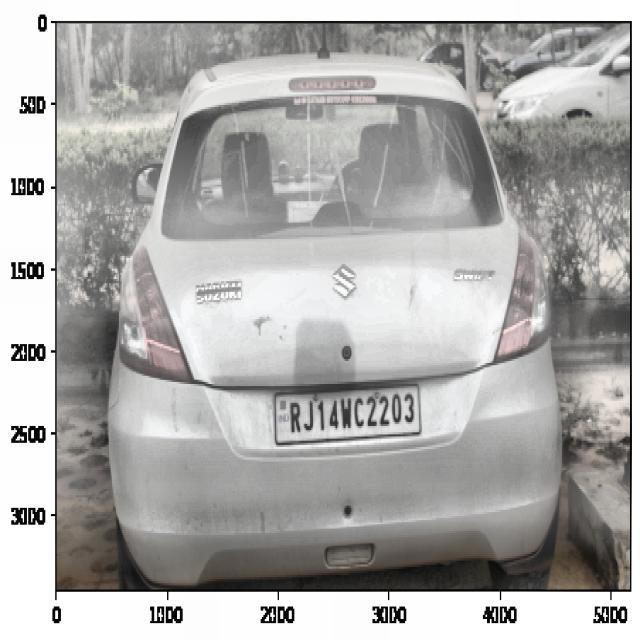license_plate: (286, 384, 419, 438)
